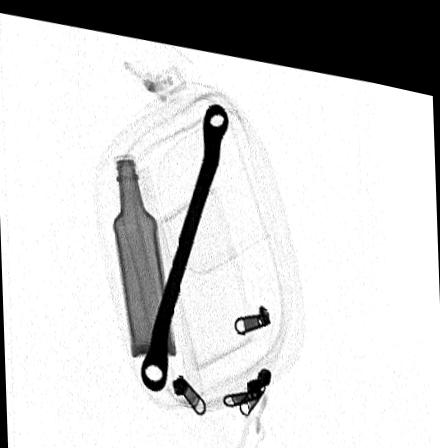Wrench: (139, 90, 230, 386)
